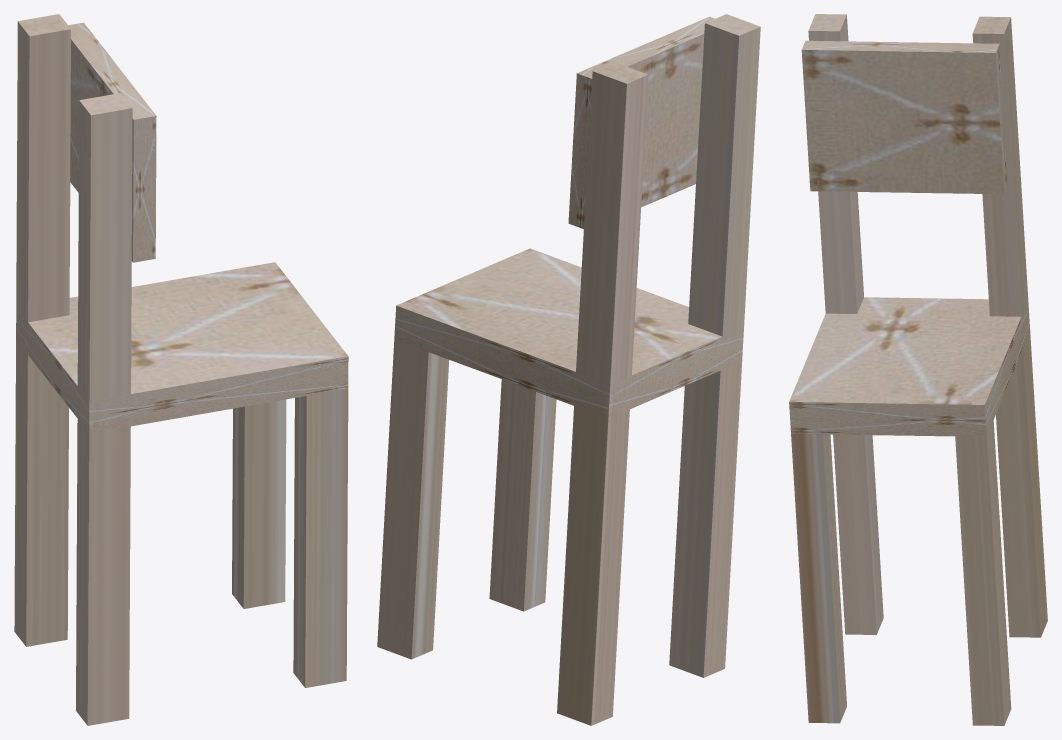
Rendered from chaise1.gltf.
3 views of the same model, side by side, from view 1: azimuth 30°, elevation 25°; view 2: azimuth 150°, elevation 25°; view 3: azimuth 270°, elevation 25° (orthographic). The views are drawn at different scales.
Parts seen in each view (by area): view 1: chaise1; view 2: chaise1; view 3: chaise1.
Boxes of the visible parts, x1,y1,x2,y2 form: chaise1: [14, 14, 348, 725]; chaise1: [377, 14, 760, 725]; chaise1: [789, 14, 1047, 725].
Bounding box in the file's own units: 1.45 × 3.15 × 1.21.
1 material, 1 textured.
